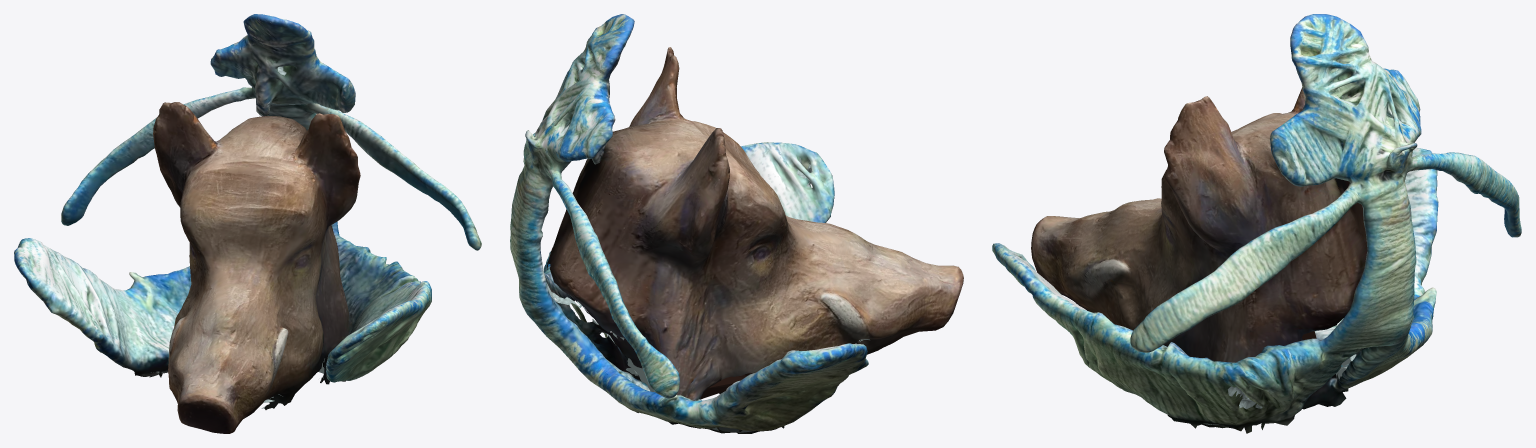
3 renders of one model, left to right at view 1: azimuth 30°, elevation 25°; view 2: azimuth 150°, elevation 25°; view 3: azimuth 270°, elevation 25°, orthographic. The views are drawn at different scales.
Parts seen in each view (by area): view 1: Mesh_0.018; view 2: Mesh_0.018; view 3: Mesh_0.018.
Boxes of the visible parts, <box> form: Mesh_0.018: <box>14,14,481,433</box>; Mesh_0.018: <box>510,14,963,433</box>; Mesh_0.018: <box>992,14,1521,433</box>.
Size of the model in its own units: 1.91 by 1.67 by 1.97.
Materials: 12 (9 with a texture image).
